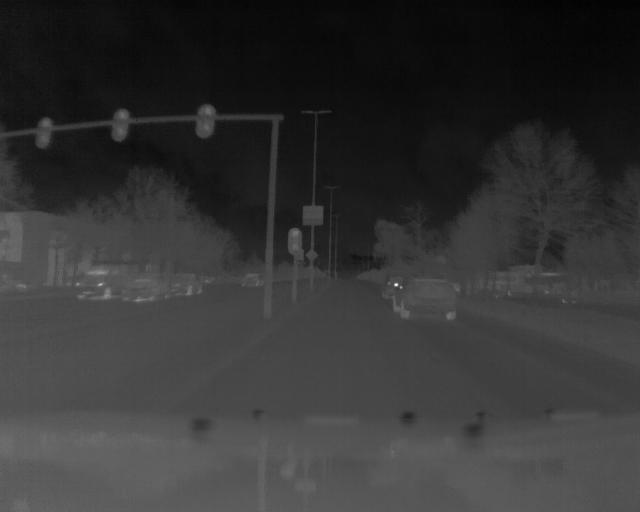car: (391, 274, 460, 323), (74, 262, 143, 298), (120, 274, 174, 303), (239, 269, 265, 290)
